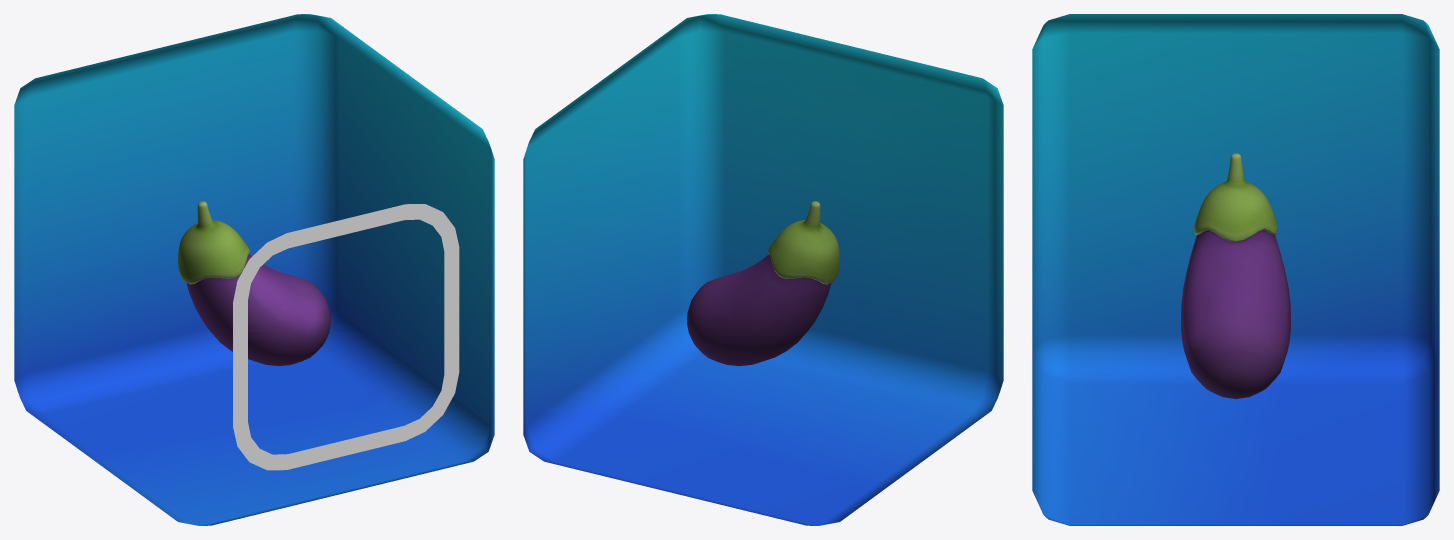
Rendered from eggplant_emoji.glb.
The picture shows the model from 3 angles, left to right: view 1: azimuth 30°, elevation 25°; view 2: azimuth 150°, elevation 25°; view 3: azimuth 270°, elevation 25°; orthographic projection. The views are drawn at different scales.
Visible parts, largest first — view 1: Box_GEO, Frame_GEO, Eggplant_GEO, Eggplant_Hat_GEO; view 2: Box_GEO, Eggplant_GEO, Eggplant_Hat_GEO; view 3: Box_GEO, Eggplant_GEO, Eggplant_Hat_GEO.
Boxes of the visible parts, x1,y1,x2,y2 form: Box_GEO: (14,14,494,525); Frame_GEO: (233,204,459,470); Eggplant_GEO: (186,254,330,366); Eggplant_Hat_GEO: (178,201,250,284); Box_GEO: (523,14,1003,525); Eggplant_GEO: (687,254,831,366); Eggplant_Hat_GEO: (767,201,839,284); Box_GEO: (1032,14,1439,525); Eggplant_GEO: (1181,230,1290,398); Eggplant_Hat_GEO: (1194,153,1277,242).
Bounding box in the file's own units: 0.077 × 0.077 × 0.077.
Materials: 2 (2 with a texture image).
